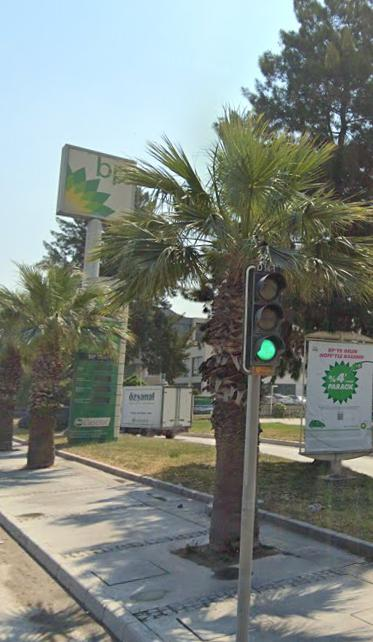greenlight: (249, 267, 288, 365)
